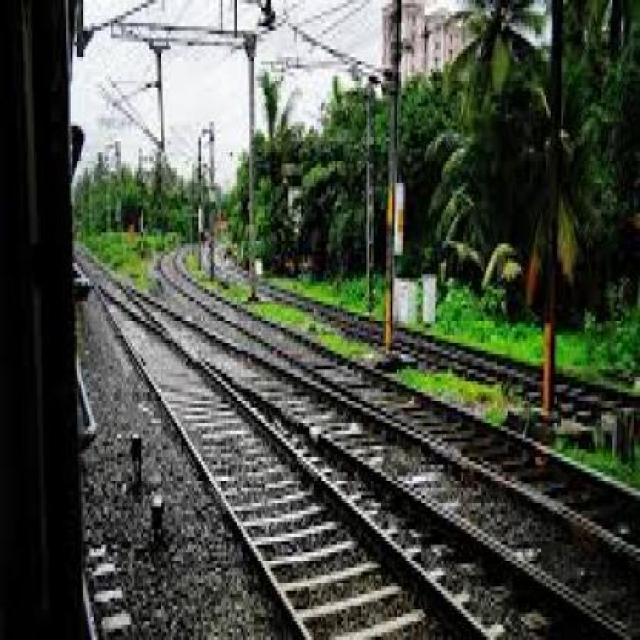rail: (74, 232, 638, 640)
